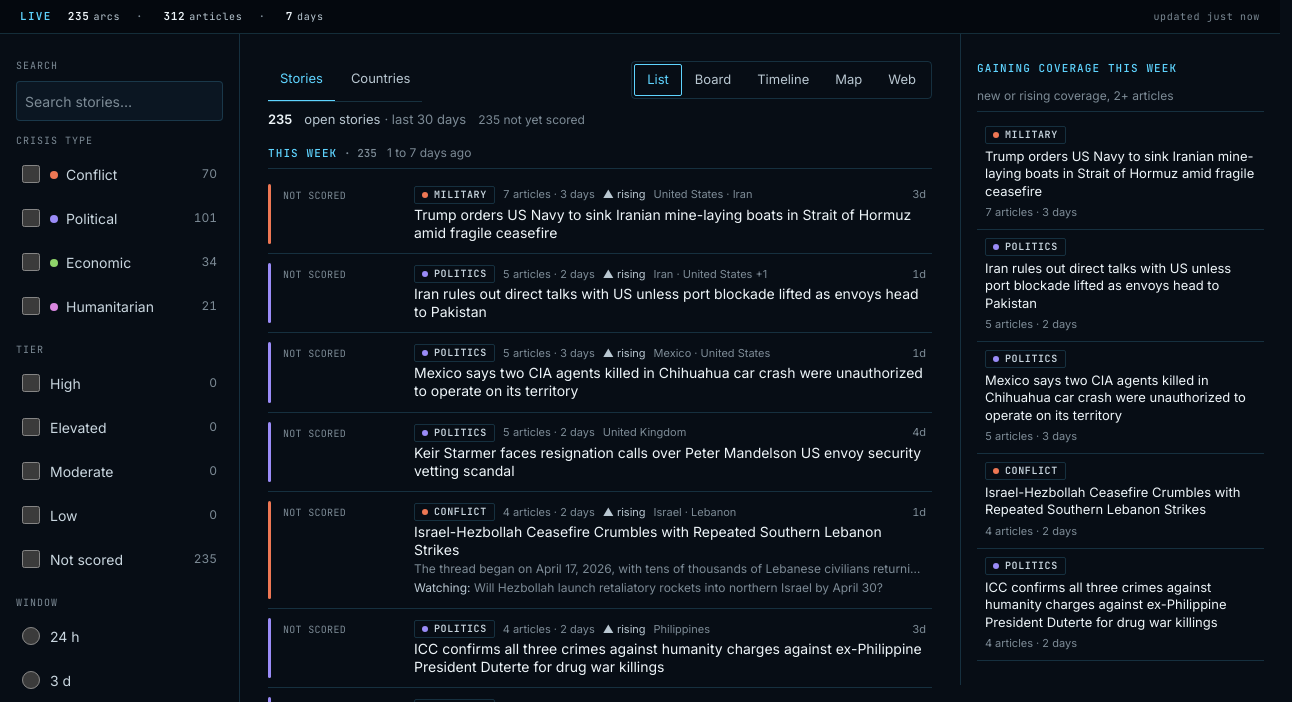
Test: Redesign v2 — WeeklyPage › timeline view draws one row per story with dots only on real coverage days
The image size is (1292, 702).
Click the radio button labelled "Timeline": (783, 80) [744,64,822,96]
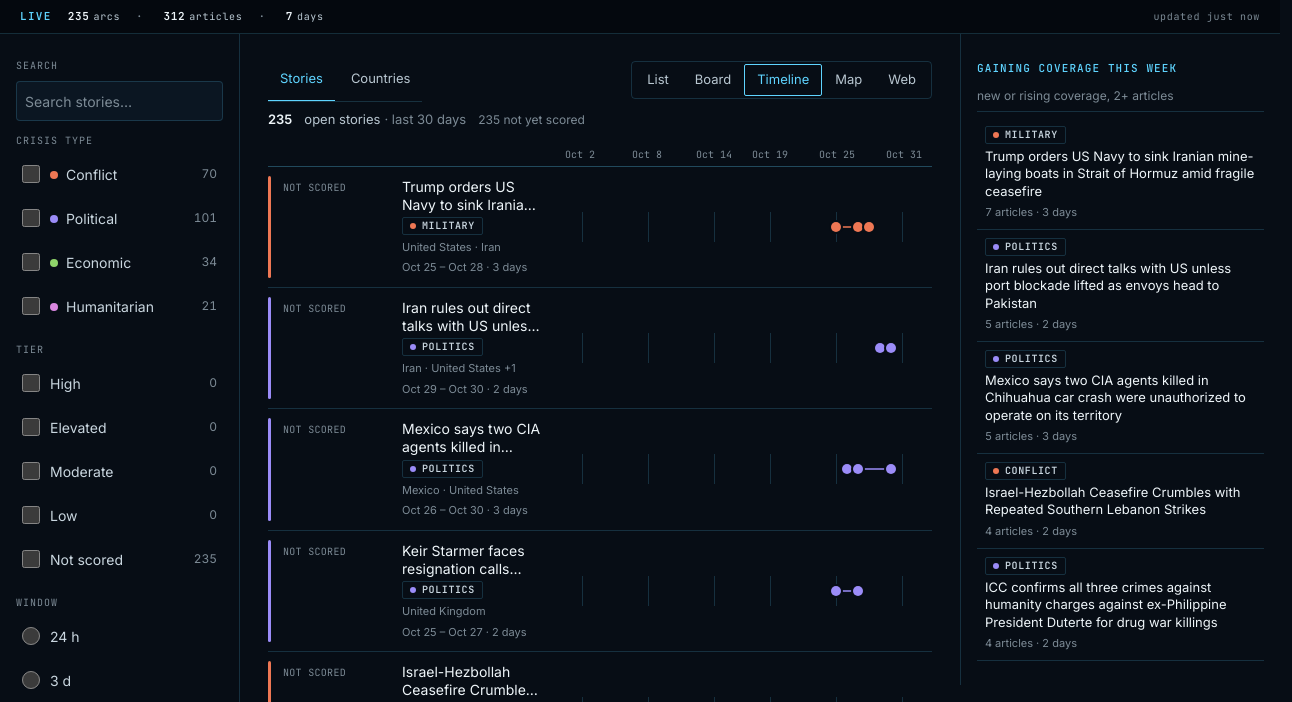
Now the 1st list item with class "tl-row" is shown, box [268,166,932,288]
